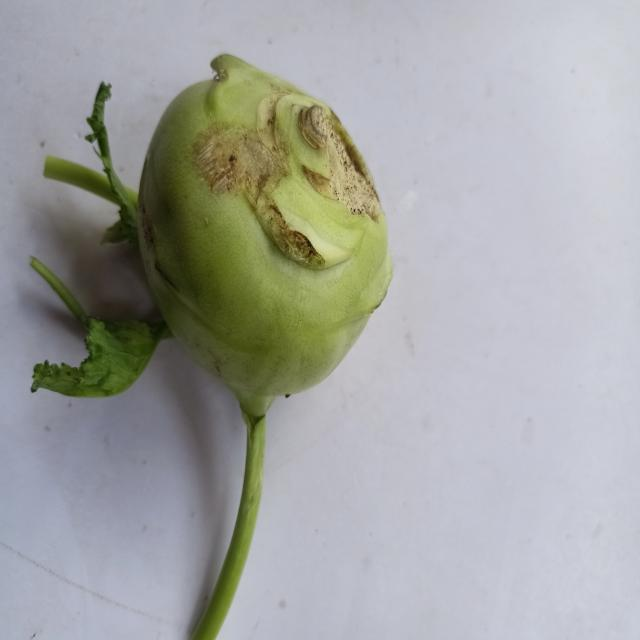Turnip: (20, 42, 397, 640)
